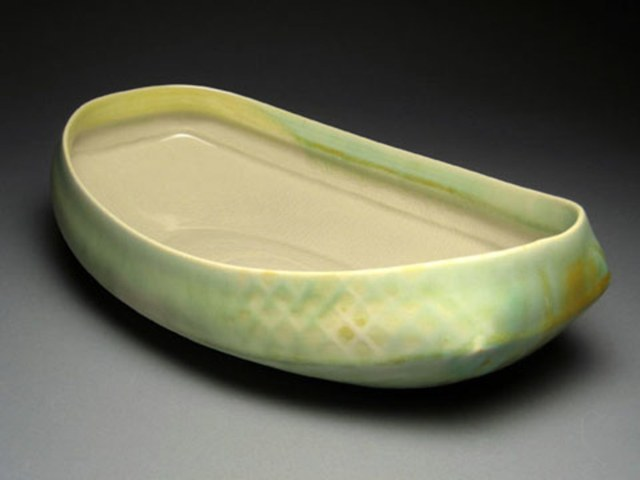bowl: (52, 85, 608, 389)
